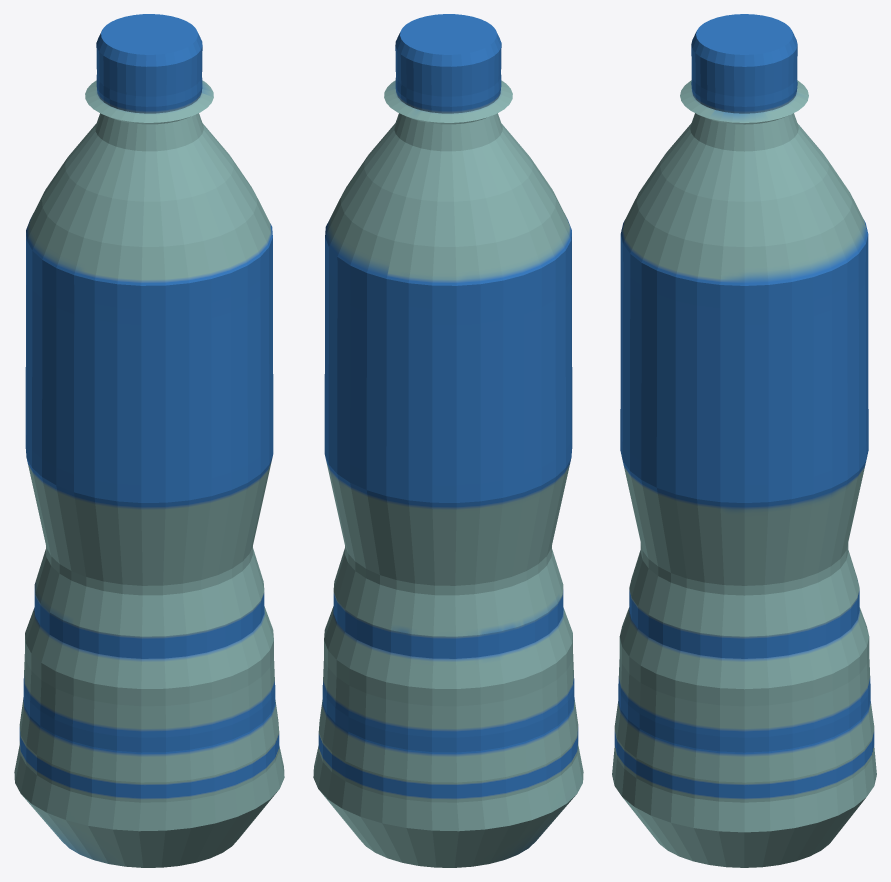
The model's file is Bottle.fbx.
The picture shows the model from 3 angles, left to right: view 1: azimuth 30°, elevation 25°; view 2: azimuth 150°, elevation 25°; view 3: azimuth 270°, elevation 25°; orthographic projection.
Parts seen in each view (by area): view 1: Cylinder; view 2: Cylinder; view 3: Cylinder.
Boxes of the visible parts, <box> form: Cylinder: <box>14,14,284,867</box>; Cylinder: <box>313,14,583,867</box>; Cylinder: <box>612,14,876,867</box>.
Size of the model in its own units: 6.51 by 20.93 by 6.33.
